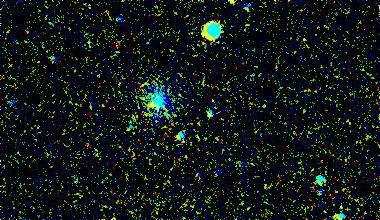star: (138, 88, 168, 118)
